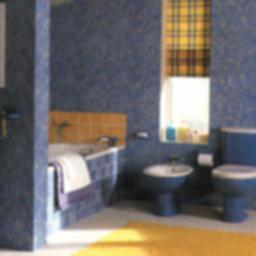Sanitario: (210, 126, 254, 222), (141, 153, 195, 217)
